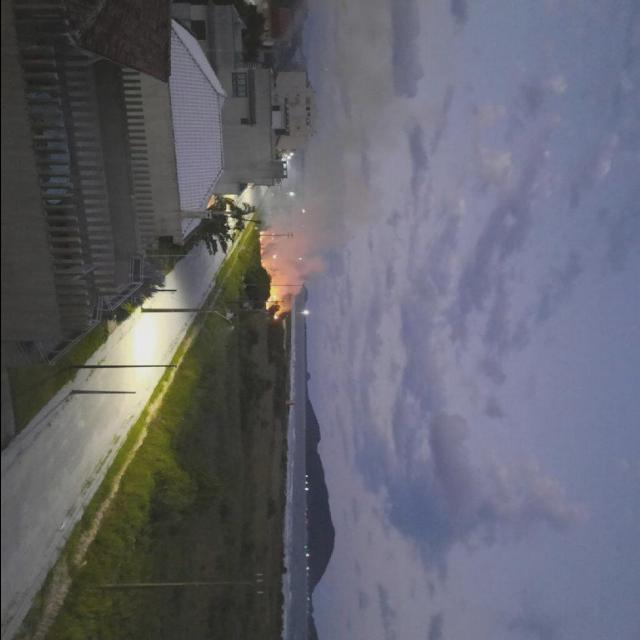Fire: (264, 284, 282, 310), (255, 230, 265, 242), (272, 312, 280, 322)
